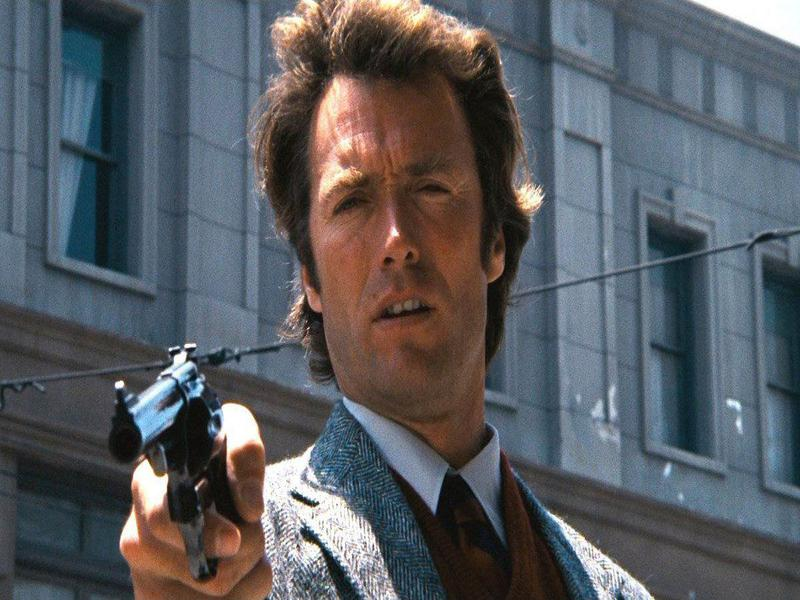Revolver: (101, 327, 260, 574)
